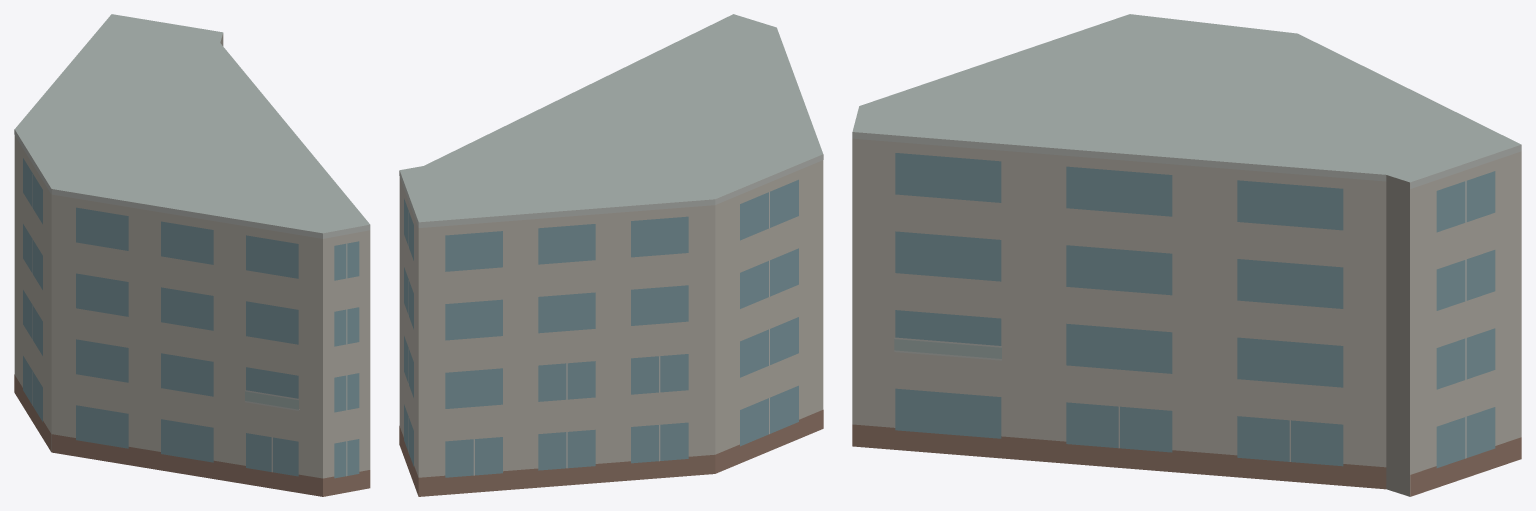
Rendered from survey-upis-32764612.glb.
The picture shows the model from 3 angles, left to right: view 1: azimuth 30°, elevation 25°; view 2: azimuth 150°, elevation 25°; view 3: azimuth 270°, elevation 25°; orthographic projection. The views are drawn at different scales.
Visible parts, largest first — view 1: survey-upis-32764612.tmp; view 2: survey-upis-32764612.tmp; view 3: survey-upis-32764612.tmp.
Boxes of the visible parts, x1,y1,x2,y2 form: survey-upis-32764612.tmp: [14, 14, 370, 496]; survey-upis-32764612.tmp: [399, 14, 823, 496]; survey-upis-32764612.tmp: [852, 14, 1521, 496].
Size of the model in its own units: 13.2 by 11.48 by 22.15.
